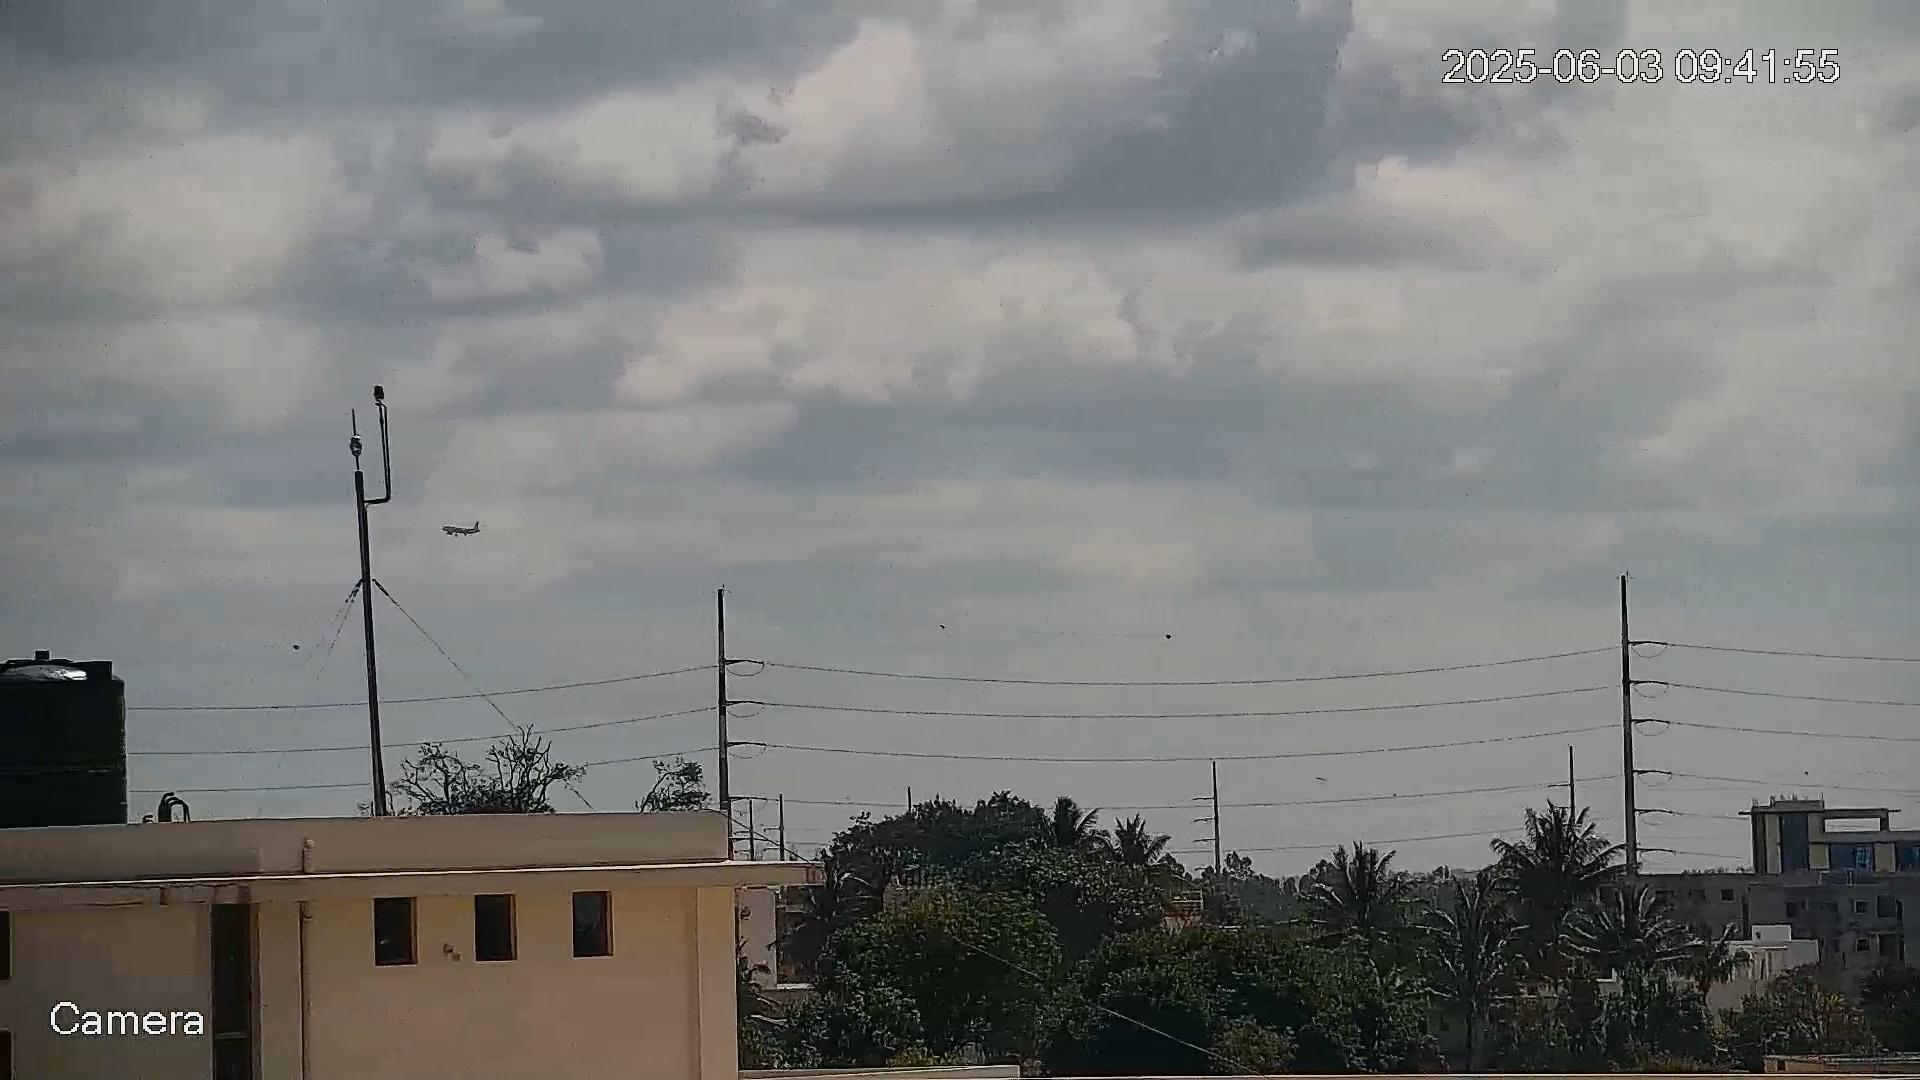Aircraft: (440, 521, 484, 537)
